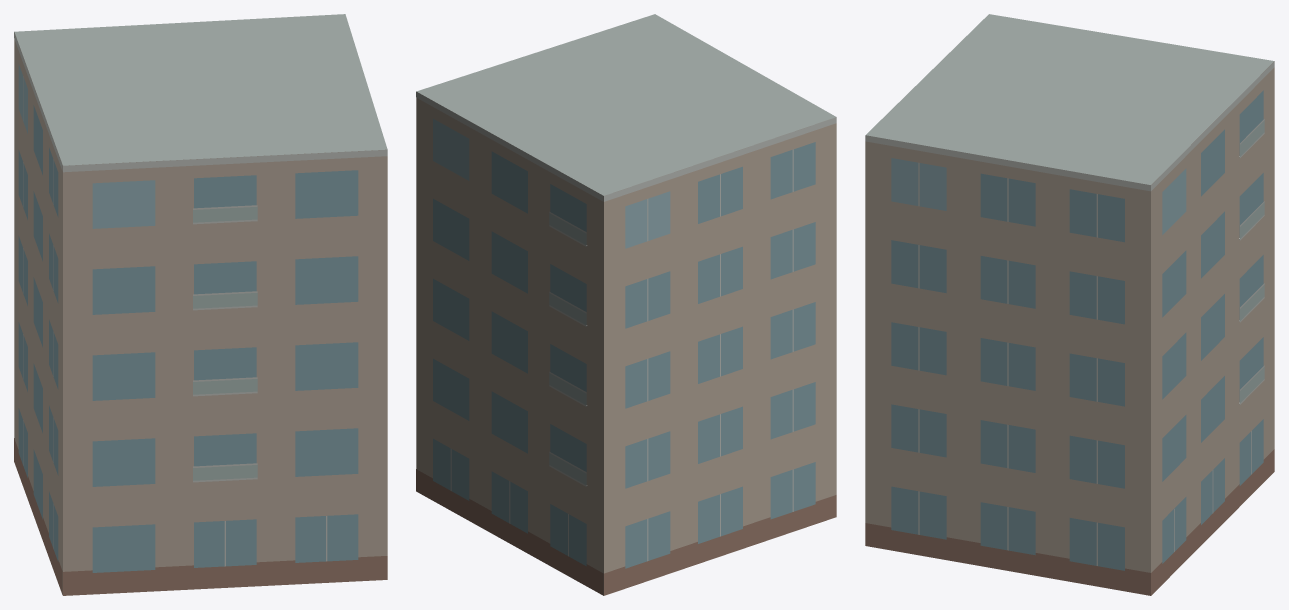
The model's file is survey-upis-32975828.glb.
3 views of the same model, side by side, from view 1: azimuth 30°, elevation 25°; view 2: azimuth 150°, elevation 25°; view 3: azimuth 270°, elevation 25° (orthographic). The views are drawn at different scales.
Parts seen in each view (by area): view 1: survey-upis-32975828.tmp; view 2: survey-upis-32975828.tmp; view 3: survey-upis-32975828.tmp.
Boxes of the visible parts, left/top/right/bottom form: survey-upis-32975828.tmp: left=14, top=14, right=387, bottom=595; survey-upis-32975828.tmp: left=416, top=14, right=836, bottom=595; survey-upis-32975828.tmp: left=865, top=14, right=1274, bottom=595.
Size of the model in its own units: 14.4 by 16.1 by 14.54.
